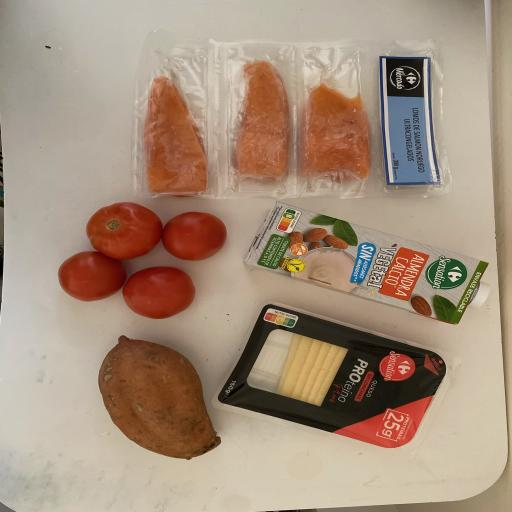cheese: (214, 303, 455, 451)
milk_almendra: (242, 199, 496, 329)
salmon: (141, 72, 213, 199), (230, 56, 297, 190), (297, 79, 372, 188)
sweet_potato: (93, 330, 226, 464)
tomato: (82, 198, 167, 265), (119, 263, 200, 320), (56, 247, 130, 304), (159, 208, 229, 264)
